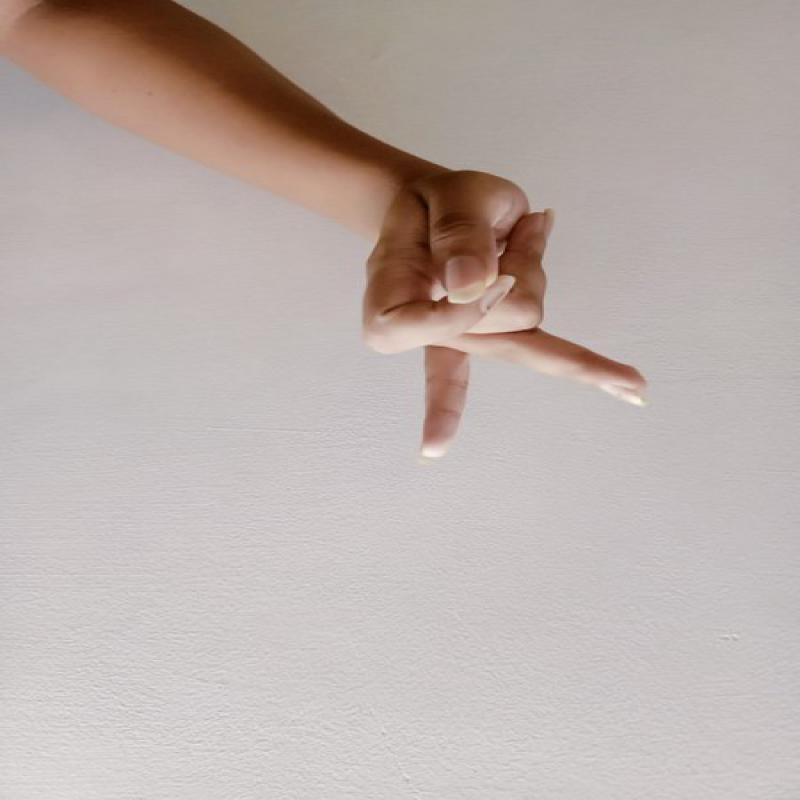Katakam: (339, 142, 657, 467)
